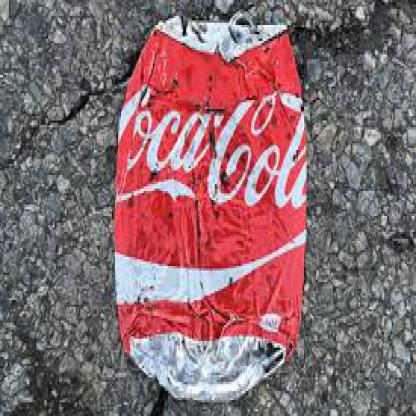METAL: (111, 7, 307, 400)
